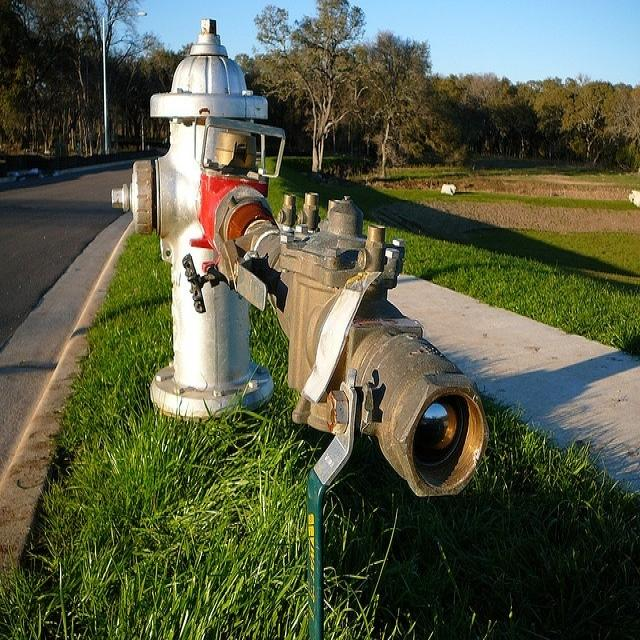fire_hydrant: (108, 31, 511, 594)
